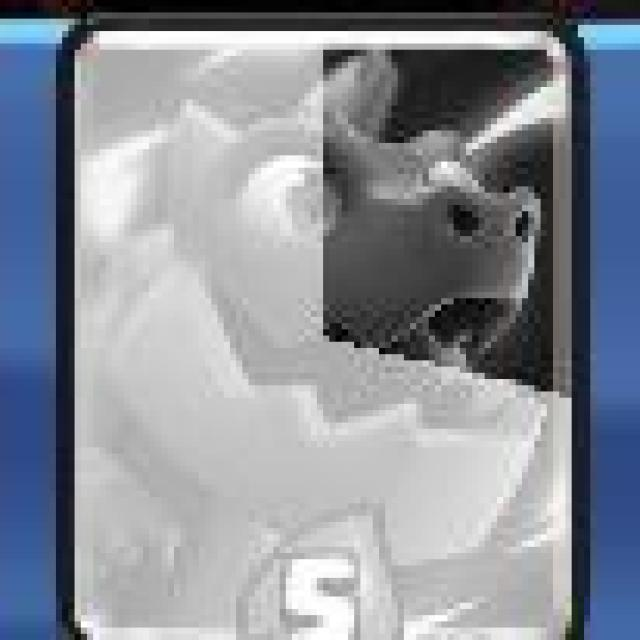Electro_Dragon: (53, 8, 593, 640)
